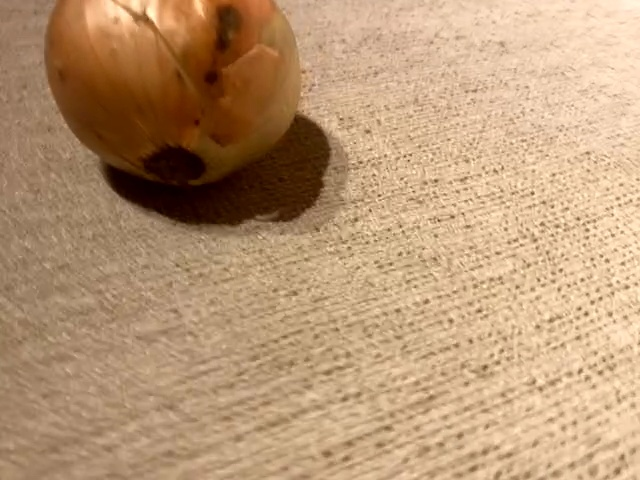onion: (36, 1, 308, 190)
